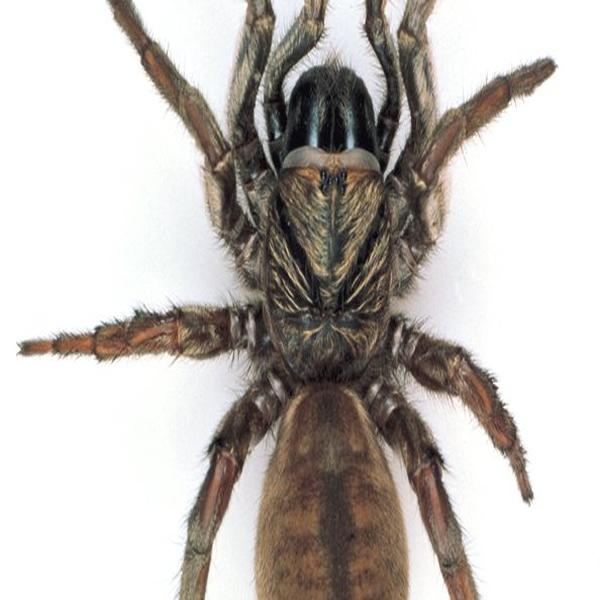Funnel Web Spider: (33, 3, 536, 600)
